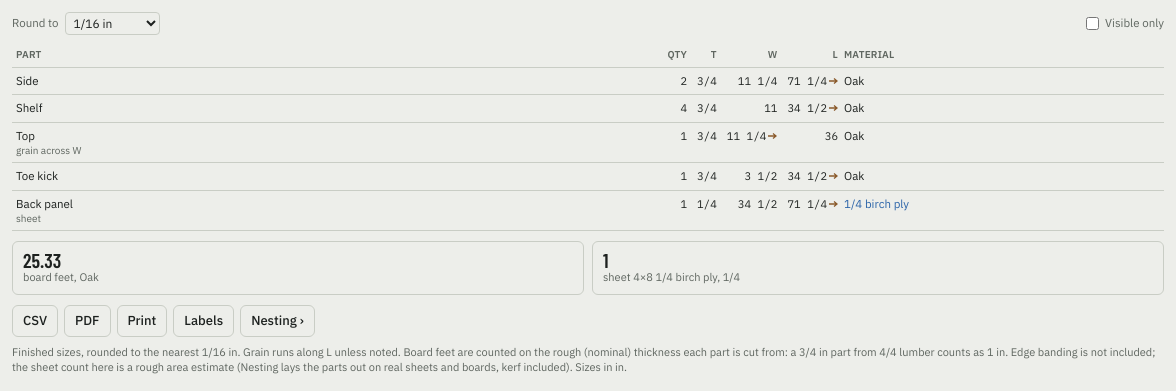
Cut list pane fit (300 px) › the right-click menu is titled with the row's name and the row stays marked while it is open
The width and height of the screenshot is (1176, 391).
Right-click the text "Top" at [588, 143], box [12, 122, 1164, 163]
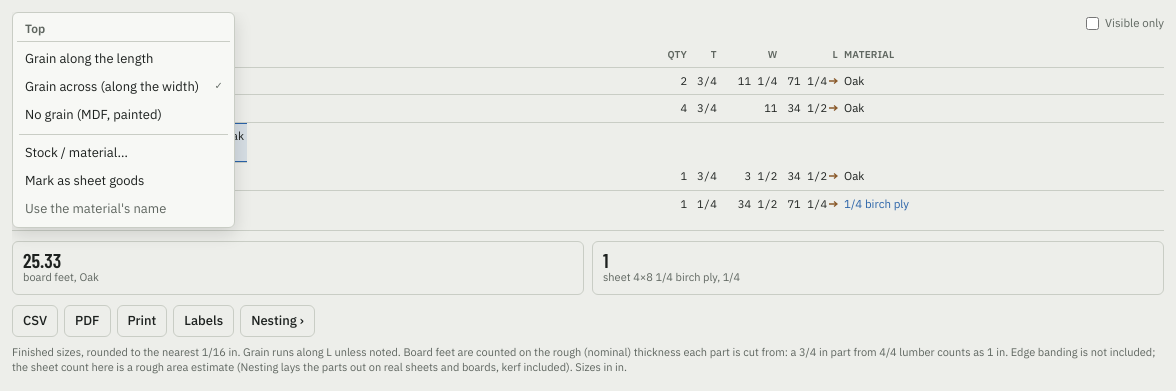
Expected: the text with class "ctxtitle" reads "Top", [25, 21, 45, 36]
Press Escape
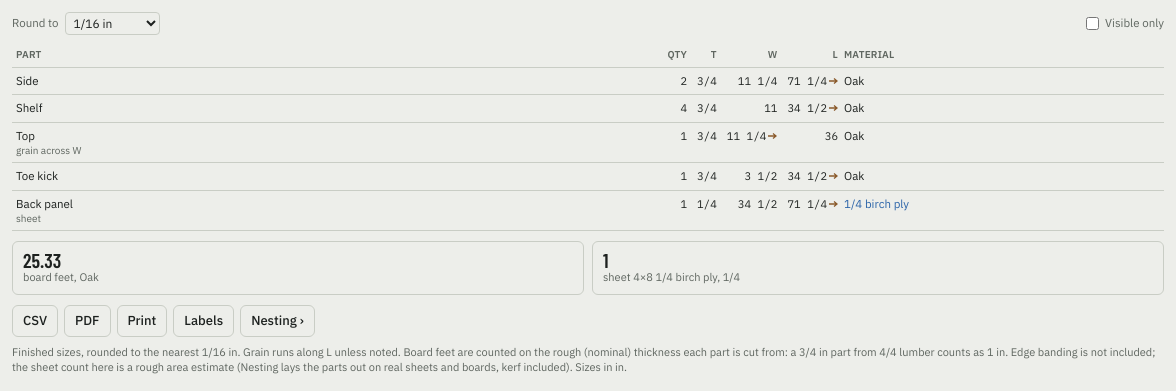
Expected: the menu is gone
